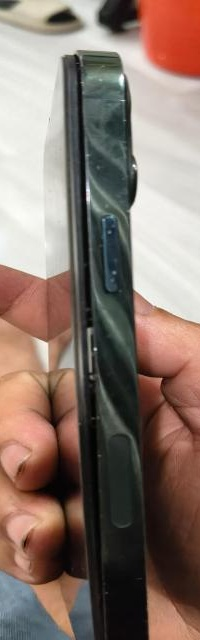scratch: (82, 332, 138, 622), (67, 44, 134, 204), (74, 215, 137, 311)
